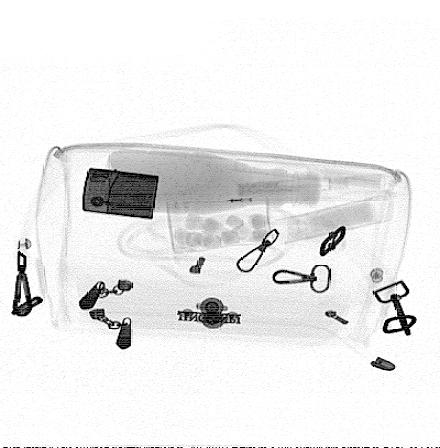Lighter: (82, 167, 160, 219)
